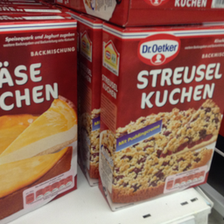cake: (97, 23, 224, 209), (1, 15, 81, 222)
